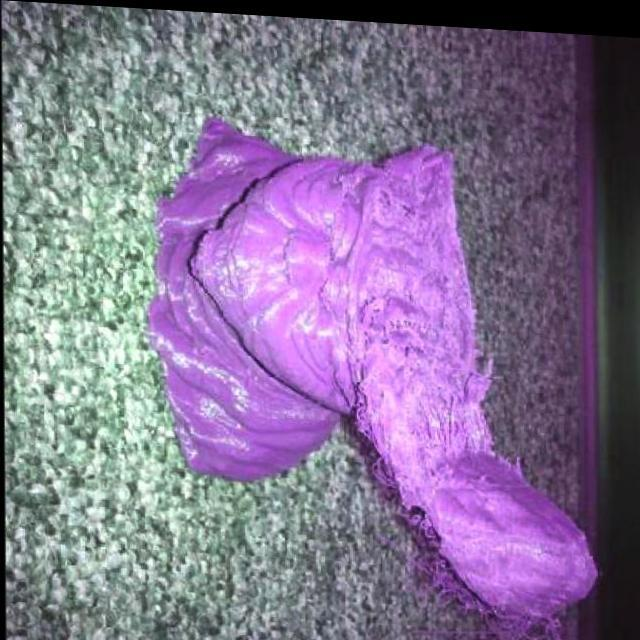spaghetti: (352, 139, 597, 640)
